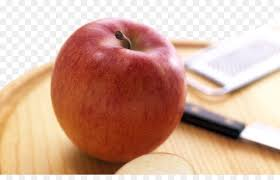apple: (55, 22, 182, 157)
